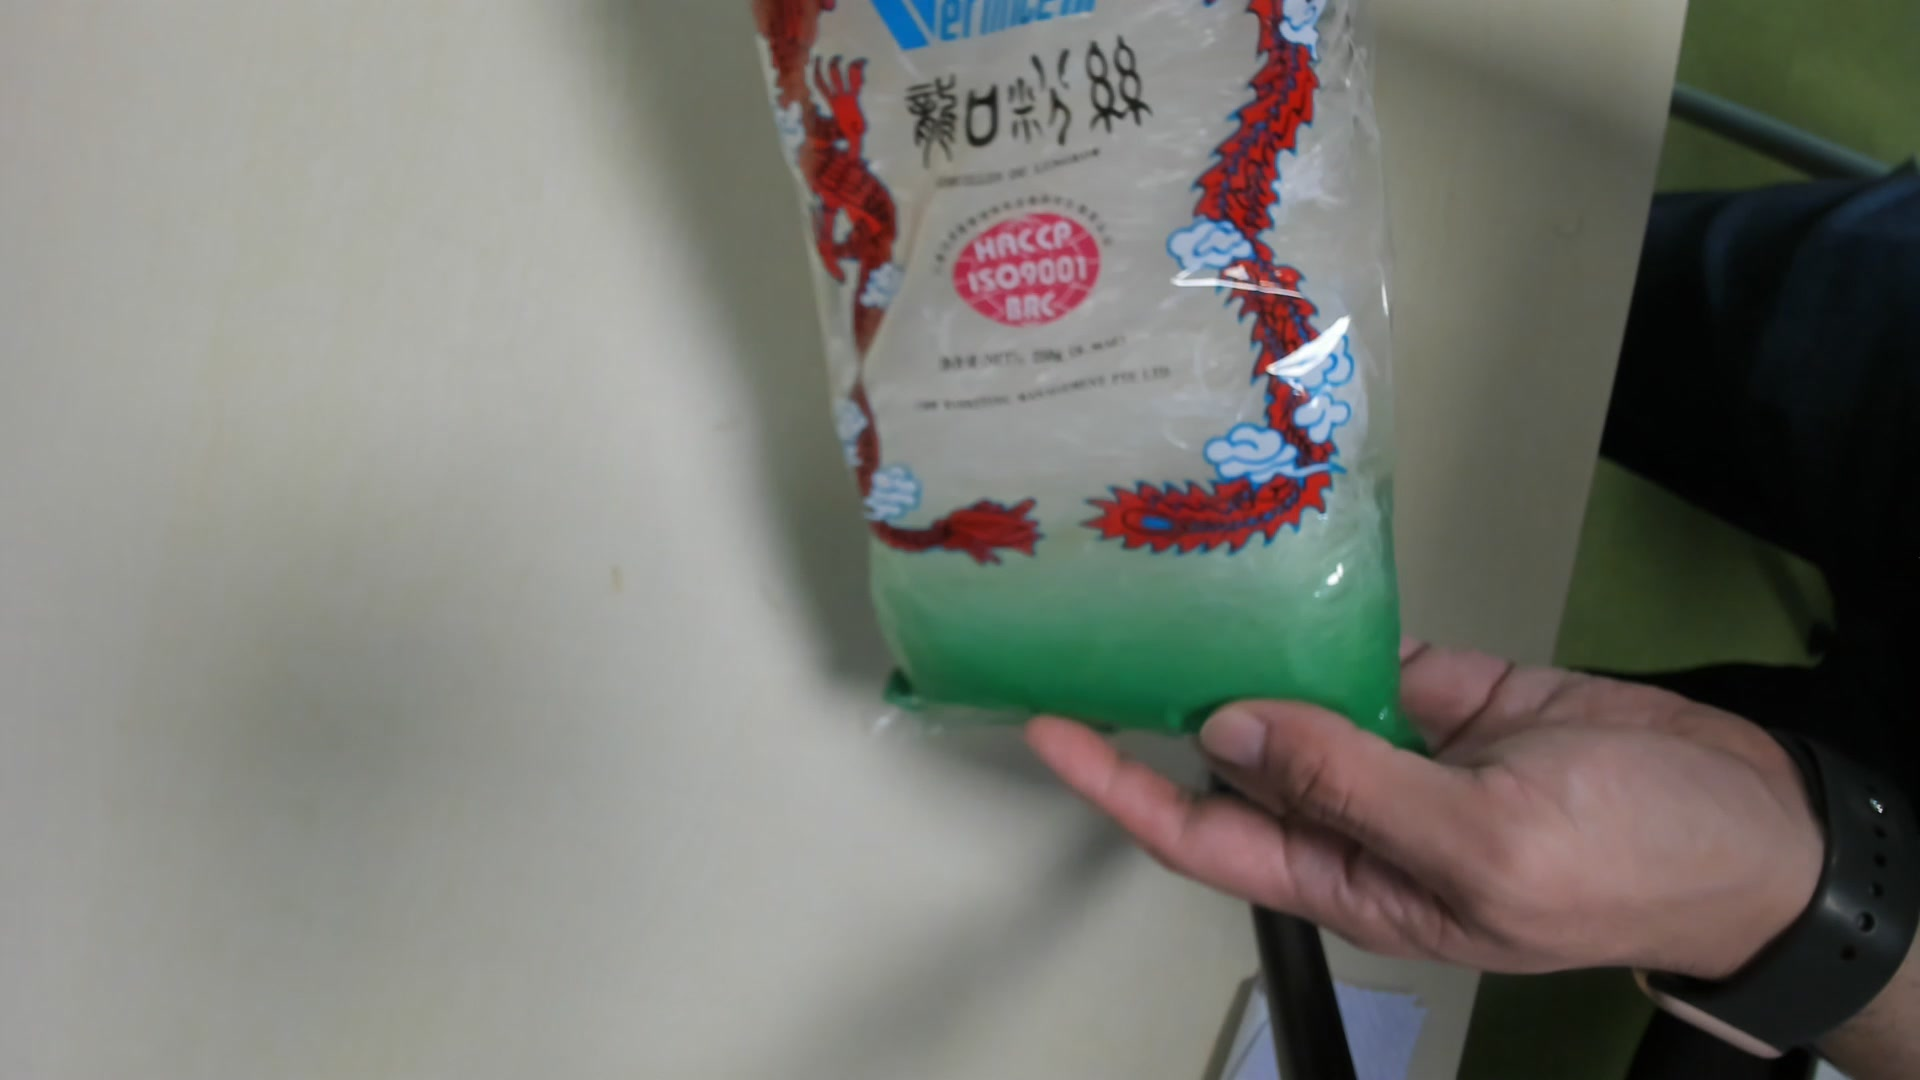BeeHoonVermicelli_200-299g_Halal_NonHealthy: (749, 7, 1411, 745)
